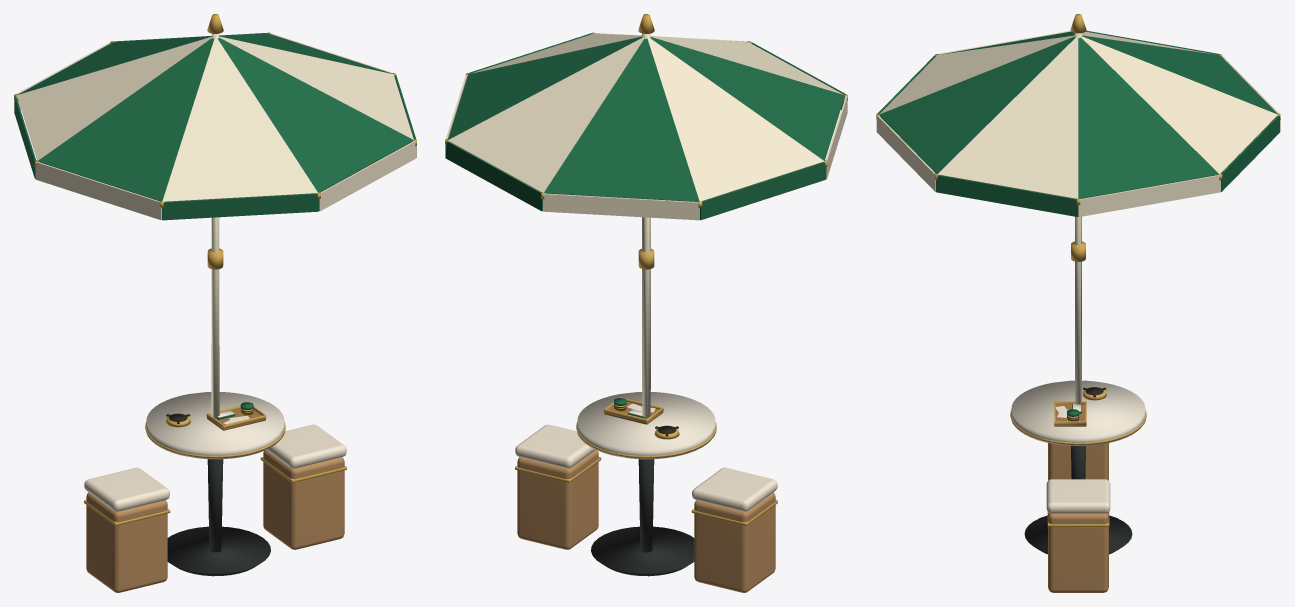
File: rooftop_parasol_table.glb
The picture shows the model from 3 angles, left to right: view 1: azimuth 30°, elevation 25°; view 2: azimuth 150°, elevation 25°; view 3: azimuth 270°, elevation 25°; orthographic projection. The views are drawn at different scales.
Parts seen in each view (by area): view 1: Gore5, Gore4, Gore6, Gore3, Stool0, Stool1, TableTop, Gore7, TableFoot, Valance5, Gore2, Cushion0 (+7 smaller); view 2: Gore2, Gore3, Gore1, Gore4, Stool0, Stool1, TableTop, Gore0, TableFoot, Valance2, Gore5, Cushion0 (+7 smaller); view 3: Gore0, Gore7, Gore1, Gore6, TableTop, Stool1, Gore2, Gore5, Valance7, Valance0, Cushion1, Stool0 (+4 smaller).
Part boxes in pixels (box(x1,y1,x2,y2)): Gore5: box(162, 38, 317, 201); Gore4: box(37, 38, 214, 201); Gore6: box(217, 37, 413, 192); Gore3: box(17, 36, 212, 160); Stool0: box(86, 492, 167, 592); Stool1: box(263, 450, 344, 549); TableTop: box(146, 392, 284, 459); Gore7: box(219, 36, 413, 139); TableFoot: box(167, 526, 270, 576); Valance5: box(162, 193, 318, 220); Gore2: box(18, 36, 211, 94); Cushion0: box(84, 467, 169, 511); Gore2: box(544, 38, 699, 201); Gore3: box(647, 37, 824, 201); Gore1: box(448, 37, 644, 192); Gore4: box(650, 37, 844, 160); Stool0: box(694, 492, 775, 592); Stool1: box(517, 450, 598, 549); TableTop: box(577, 392, 715, 459); Gore0: box(448, 36, 642, 139); TableFoot: box(591, 526, 694, 576); Valance2: box(543, 193, 699, 220); Gore5: box(651, 36, 843, 94); Cushion0: box(692, 467, 777, 511); Gore0: box(1078, 37, 1218, 198); Gore7: box(938, 37, 1078, 198); Gore1: box(1081, 36, 1277, 174); Gore6: box(879, 36, 1075, 174); TableTop: box(1011, 380, 1145, 445); Stool1: box(1048, 512, 1108, 592); Gore2: box(1082, 35, 1277, 114); Gore5: box(879, 35, 1074, 114); Valance7: box(936, 175, 1078, 216); Valance0: box(1078, 175, 1220, 216); Cushion1: box(1046, 479, 1110, 513); Stool0: box(1048, 443, 1108, 480).
Bounding box in the file's own units: 1.5 × 2.15 × 1.5.
